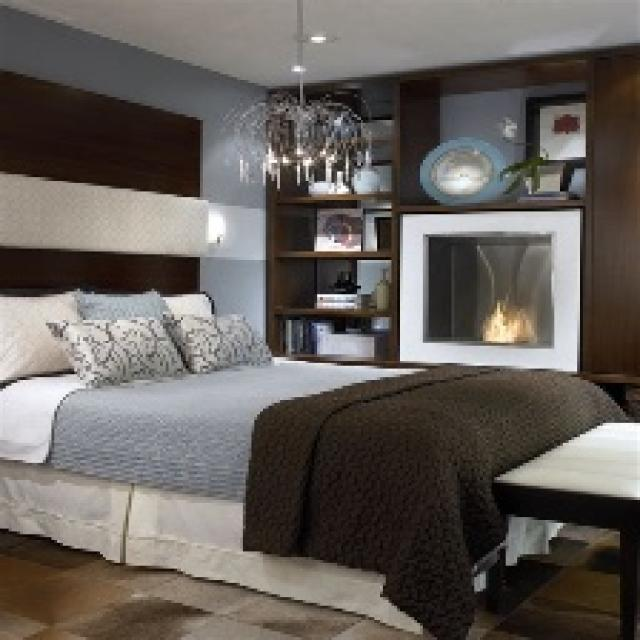Bed: (0, 240, 634, 637)
